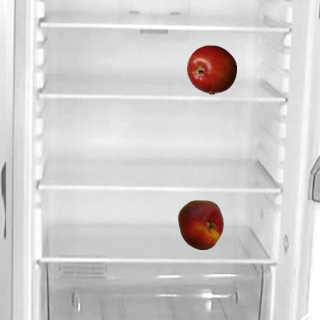Apple Braeburn: (186, 44, 236, 94)
Nectarine Flat: (175, 199, 225, 249)
